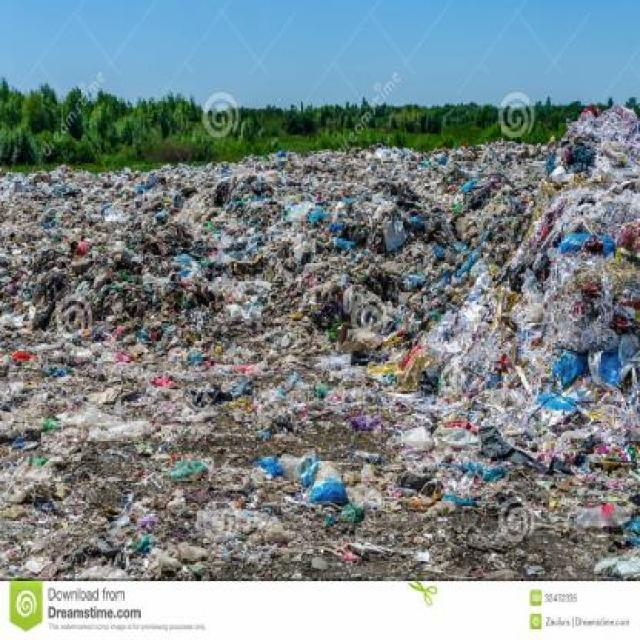garbage: (5, 168, 638, 574), (288, 145, 636, 186), (571, 88, 640, 250)
